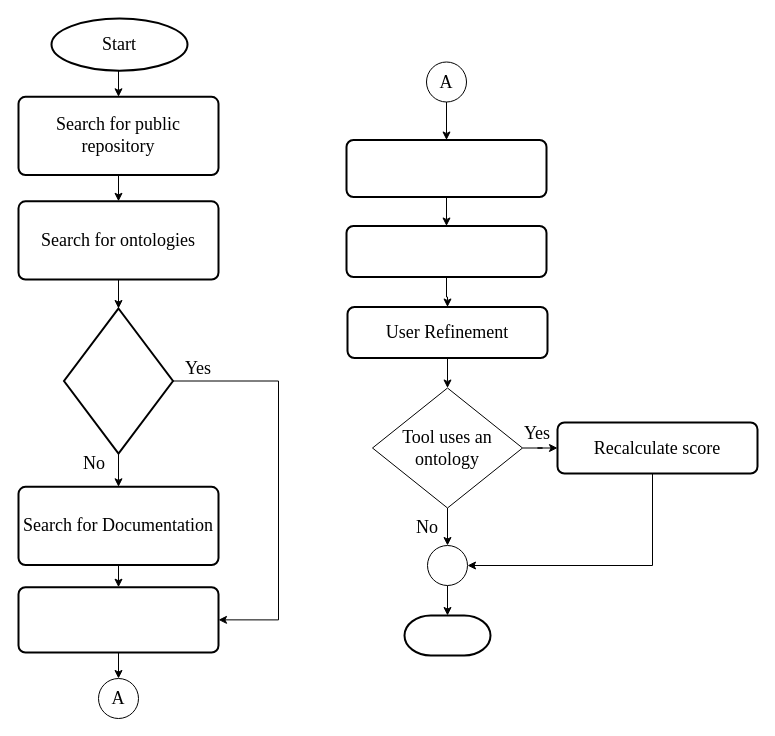
Image size: 775x736. Some labels were removed from this diagram. The centre of each missing label's shape, as x and y in pixels:
Calculate score: the point at 446,251
End: the point at 447,635
Search for Contact information: the point at 118,619
Search for information on how to cite tool: the point at 446,168
Was repository found: the point at 118,380
